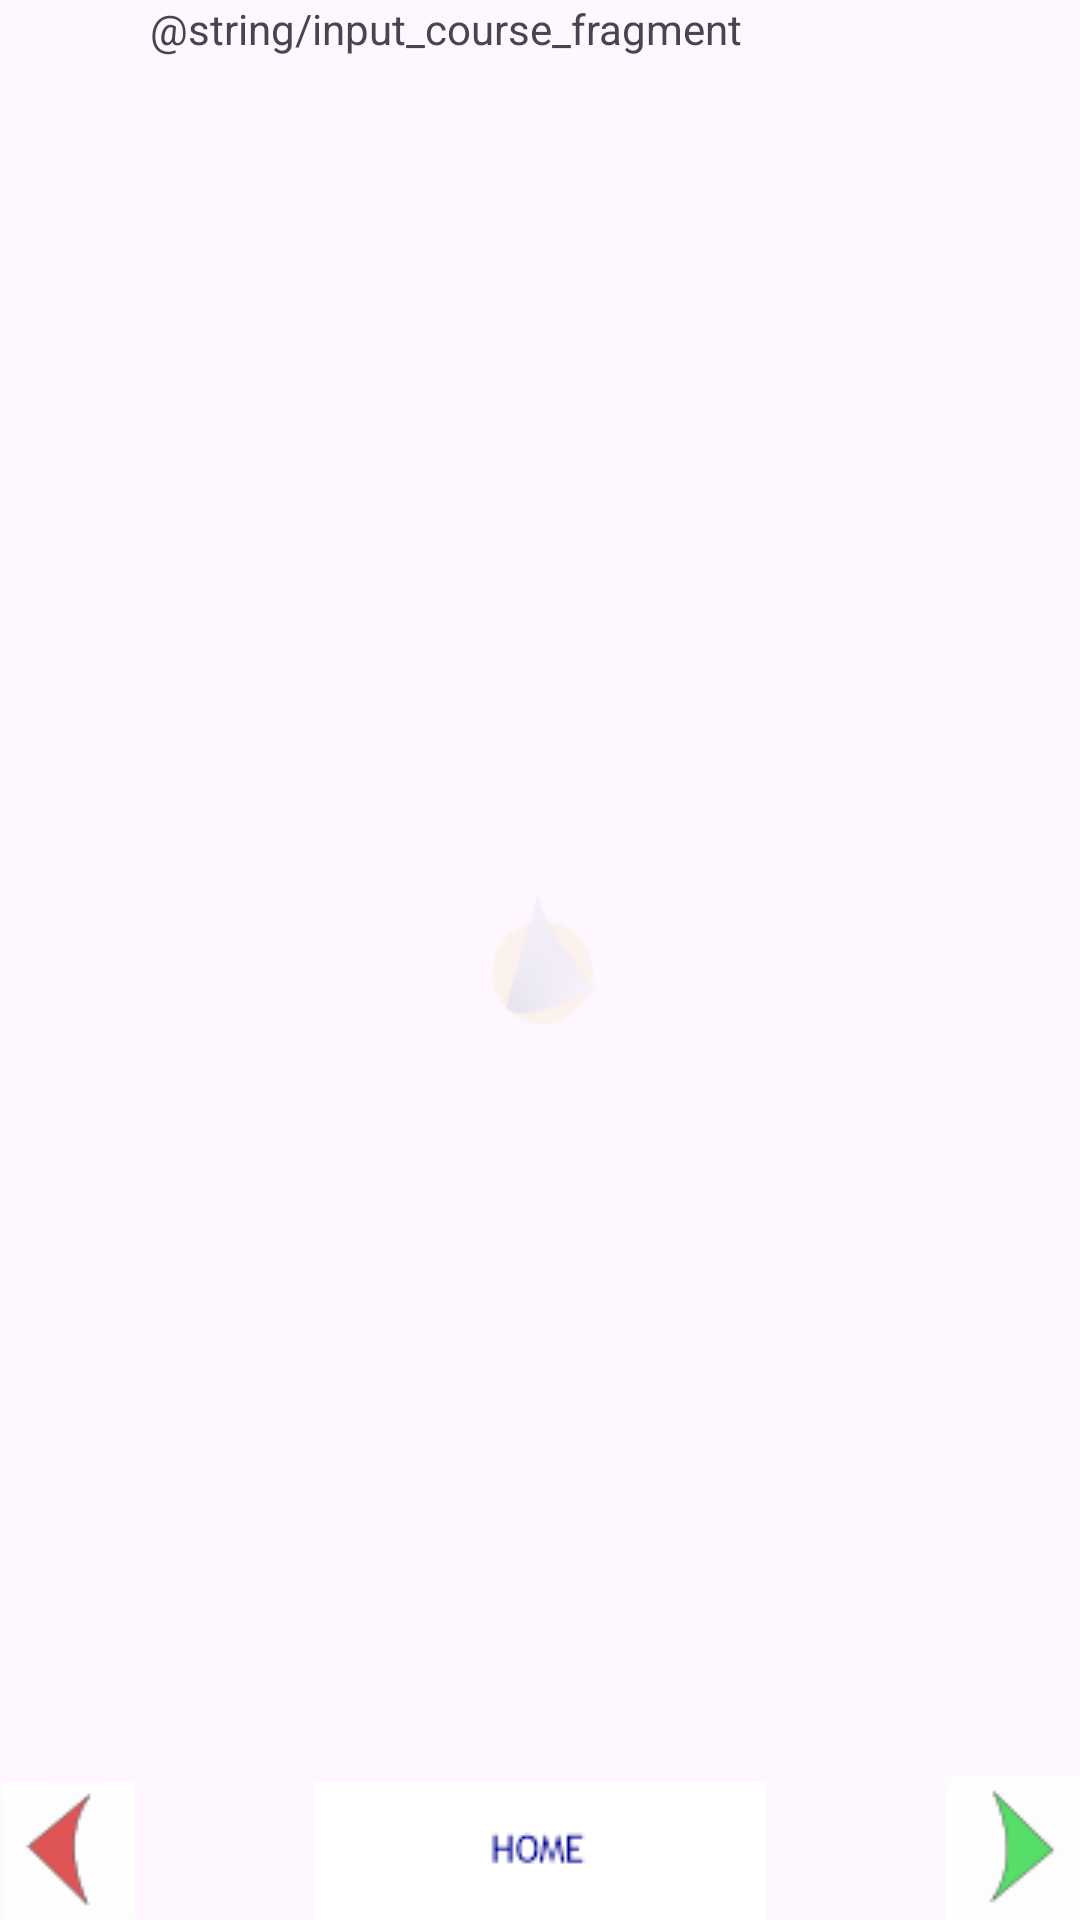

Named icons in this screenshot (1080w x 1920h) and their centers, (x,y):
Left Nav: (58,1849)
Right Nav: (1022,1846)
